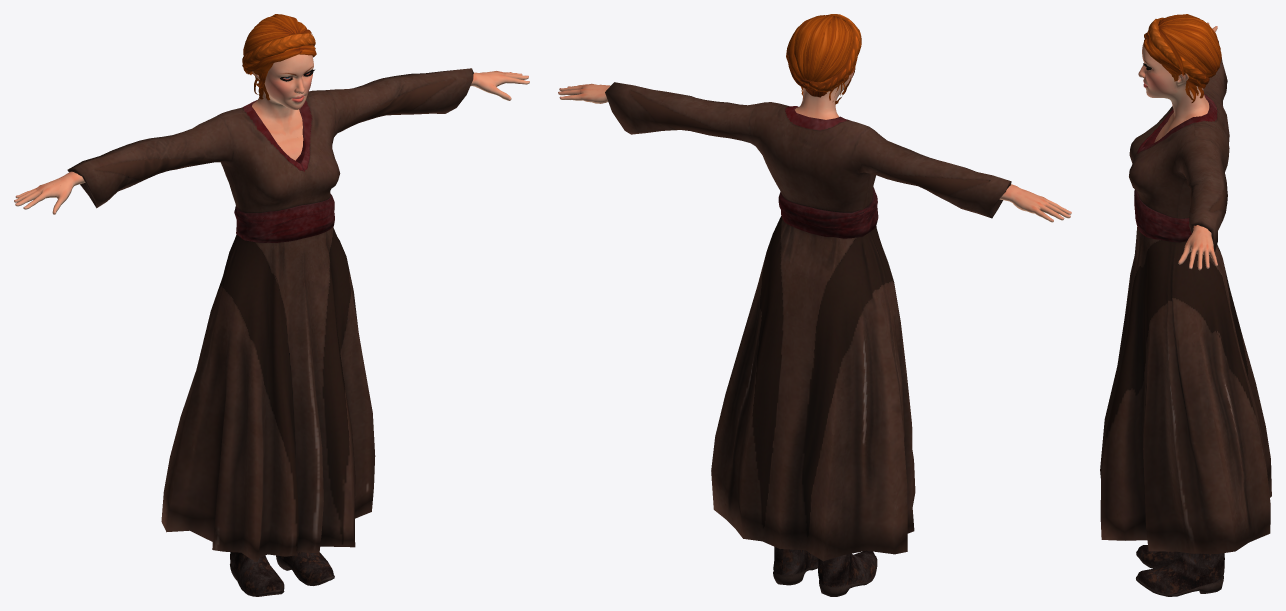
The picture shows the model from 3 angles, left to right: view 1: azimuth 30°, elevation 25°; view 2: azimuth 150°, elevation 25°; view 3: azimuth 270°, elevation 25°; orthographic projection.
Parts seen in each view (by area): view 1: Tops, Body, Hair, Shoes; view 2: Tops, Hair, Shoes, Body; view 3: Tops, Hair, Body, Shoes.
Boxes of the visible parts, x1=… form: Tops: x1=67, y1=68, x2=473, y2=561; Body: x1=14, y1=54, x2=529, y2=214; Hair: x1=242, y1=14, x2=316, y2=100; Shoes: x1=230, y1=552, x2=334, y2=596; Tops: x1=605, y1=82, x2=1011, y2=561; Hair: x1=786, y1=14, x2=861, y2=104; Shoes: x1=773, y1=547, x2=877, y2=596; Body: x1=558, y1=69, x2=1071, y2=222; Tops: x1=1100, y1=40, x2=1271, y2=553; Hair: x1=1144, y1=14, x2=1221, y2=102; Body: x1=1138, y1=22, x2=1217, y2=270; Shoes: x1=1136, y1=545, x2=1224, y2=596.
Size of the model in its own units: 169 by 176 by 49.14.
4 materials, 4 textured.
